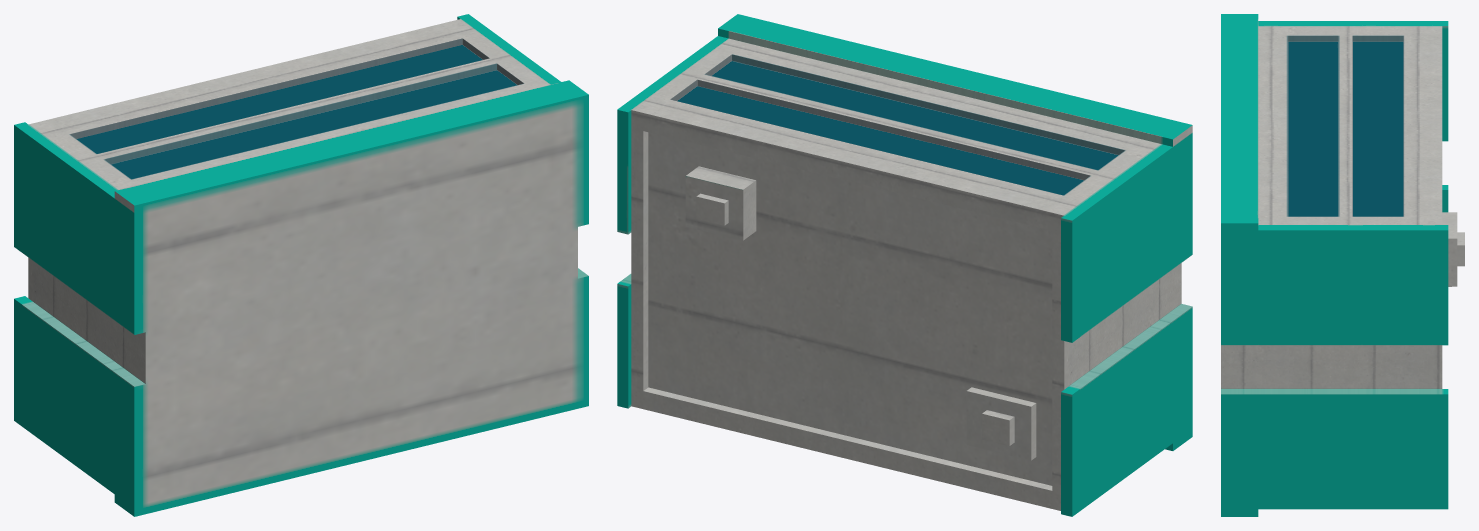
The model's file is buildings-industrial-02.obj.
3 views of the same model, side by side, from view 1: azimuth 30°, elevation 25°; view 2: azimuth 150°, elevation 25°; view 3: azimuth 270°, elevation 25° (orthographic). The views are drawn at different scales.
Visible parts, largest first — view 1: buildings-industrial-02_Cube.093; view 2: buildings-industrial-02_Cube.093; view 3: buildings-industrial-02_Cube.093.
Part boxes in pixels (bbox=[...]): buildings-industrial-02_Cube.093: bbox=[14, 14, 588, 516]; buildings-industrial-02_Cube.093: bbox=[617, 14, 1192, 516]; buildings-industrial-02_Cube.093: bbox=[1221, 14, 1464, 516].
Bounding box in the file's own units: 9.12 × 5.97 × 4.49.
